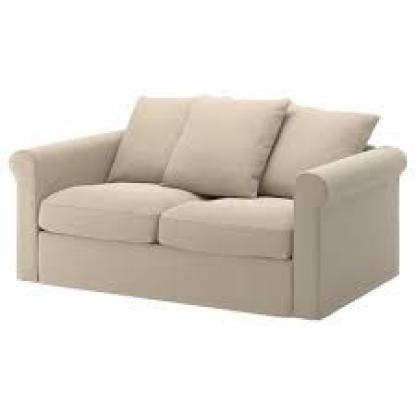sofa: (15, 90, 412, 324)
